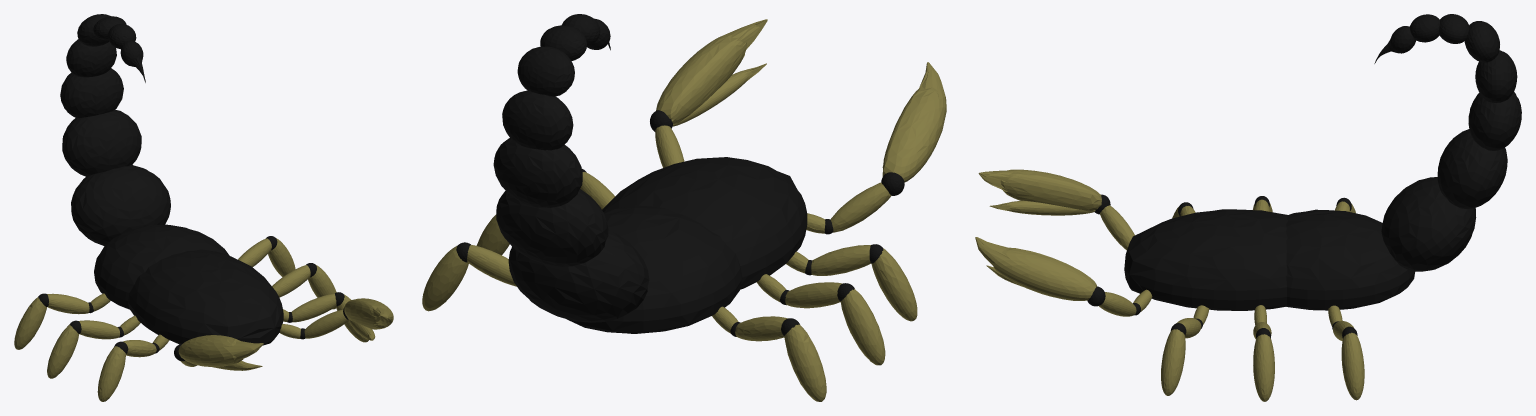
File: scorpion2.obj
3 views of the same model, side by side, from view 1: azimuth 30°, elevation 25°; view 2: azimuth 150°, elevation 25°; view 3: azimuth 270°, elevation 25° (orthographic). The views are drawn at different scales.
Visible parts, largest first — view 1: Sphere.010_Sphere.012, Sphere.002_Sphere.004, Sphere.011_Sphere.013, Sphere.003_Sphere.005, Sphere.030_Sphere.000, Sphere.004_Sphere.006, Sphere.020_Sphere.038, Sphere.014_Sphere.033, Sphere.005_Sphere.007, Sphere.018_Sphere.036, Sphere.012_Sphere.018, Sphere.013_Sphere.017 (+7 smaller); view 2: Sphere.010_Sphere.012, Sphere.011_Sphere.013, Sphere.030_Sphere.000, Sphere.002_Sphere.004, Sphere.003_Sphere.005, Sphere.004_Sphere.006, Sphere.020_Sphere.038, Sphere.005_Sphere.007, Sphere.014_Sphere.033, Sphere.028_Sphere.046, Sphere.006_Sphere.008, Sphere.022_Sphere.040 (+7 smaller); view 3: Sphere.010_Sphere.012, Sphere.011_Sphere.013, Sphere.030_Sphere.000, Sphere.002_Sphere.004, Sphere.003_Sphere.005, Sphere.004_Sphere.006, Sphere.005_Sphere.007, Sphere.028_Sphere.046, Sphere.012_Sphere.018, Sphere.020_Sphere.038, Sphere.014_Sphere.033, Sphere.006_Sphere.008 (+4 smaller).
Boxes of the visible parts, x1,y1,x2,y2 form: Sphere.010_Sphere.012: (128, 249, 283, 345); Sphere.002_Sphere.004: (71, 165, 170, 245); Sphere.011_Sphere.013: (94, 224, 229, 309); Sphere.003_Sphere.005: (62, 109, 141, 176); Sphere.030_Sphere.000: (178, 298, 393, 367); Sphere.004_Sphere.006: (60, 68, 123, 118); Sphere.020_Sphere.038: (14, 238, 295, 349); Sphere.014_Sphere.033: (47, 264, 336, 378); Sphere.005_Sphere.007: (66, 39, 116, 77); Sphere.018_Sphere.036: (79, 265, 310, 339); Sphere.012_Sphere.018: (97, 294, 368, 401); Sphere.013_Sphere.017: (123, 293, 336, 357); Sphere.010_Sphere.012: (602, 157, 807, 289); Sphere.011_Sphere.013: (566, 205, 742, 333); Sphere.030_Sphere.000: (656, 19, 946, 182); Sphere.002_Sphere.004: (508, 230, 649, 322); Sphere.003_Sphere.005: (496, 189, 608, 266); Sphere.004_Sphere.006: (493, 138, 582, 207); Sphere.020_Sphere.038: (422, 245, 826, 401); Sphere.005_Sphere.007: (502, 90, 573, 150); Sphere.014_Sphere.033: (476, 214, 885, 365); Sphere.028_Sphere.046: (655, 125, 891, 232); Sphere.006_Sphere.008: (517, 46, 574, 96); Sphere.022_Sphere.040: (467, 245, 787, 341); Sphere.010_Sphere.012: (1124, 209, 1287, 310); Sphere.011_Sphere.013: (1285, 209, 1414, 310); Sphere.030_Sphere.000: (975, 169, 1101, 300); Sphere.002_Sphere.004: (1381, 177, 1476, 271); Sphere.003_Sphere.005: (1437, 129, 1507, 208); Sphere.004_Sphere.006: (1468, 92, 1521, 150); Sphere.005_Sphere.007: (1475, 50, 1517, 102); Sphere.028_Sphere.046: (1099, 205, 1136, 316); Sphere.012_Sphere.018: (1161, 207, 1185, 395); Sphere.020_Sphere.038: (1341, 203, 1364, 400); Sphere.014_Sphere.033: (1253, 203, 1274, 401); Sphere.006_Sphere.008: (1464, 21, 1499, 62).
Size of the model in its own units: 0.9537 by 0.8348 by 1.35.
